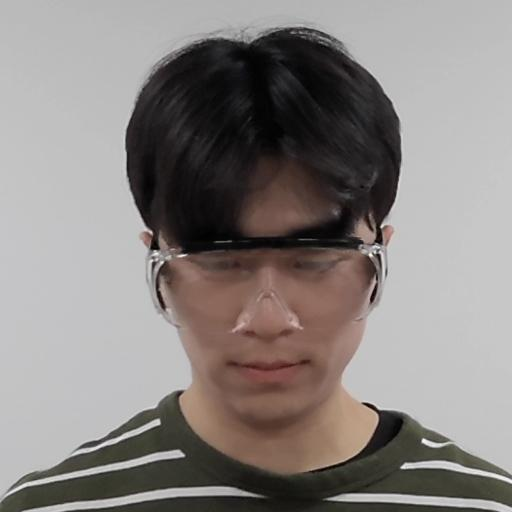glasses: (118, 21, 411, 408)
